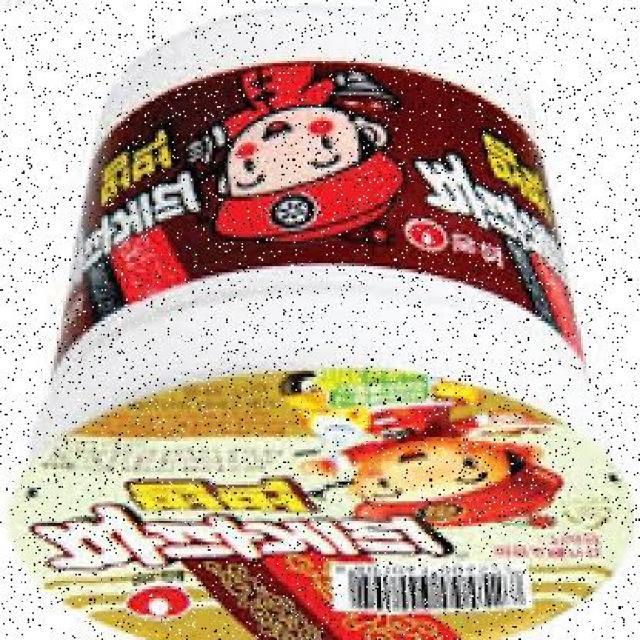Miscellaneous: (24, 38, 638, 640)
